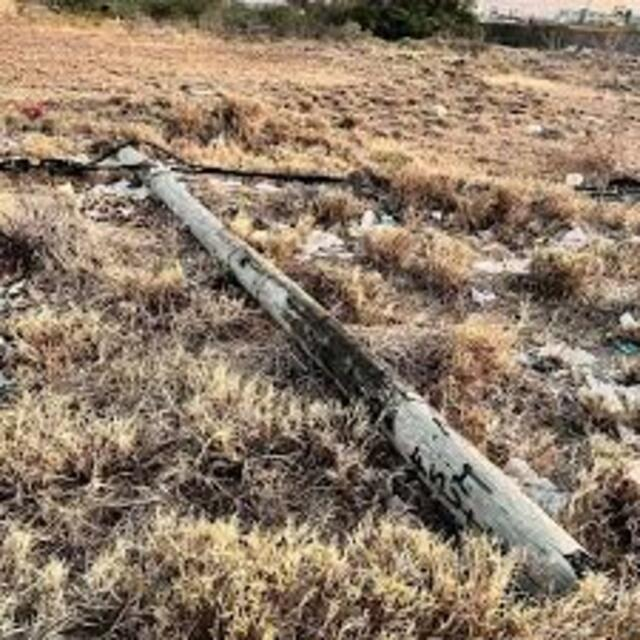Inclined Pole: (105, 137, 599, 588)
